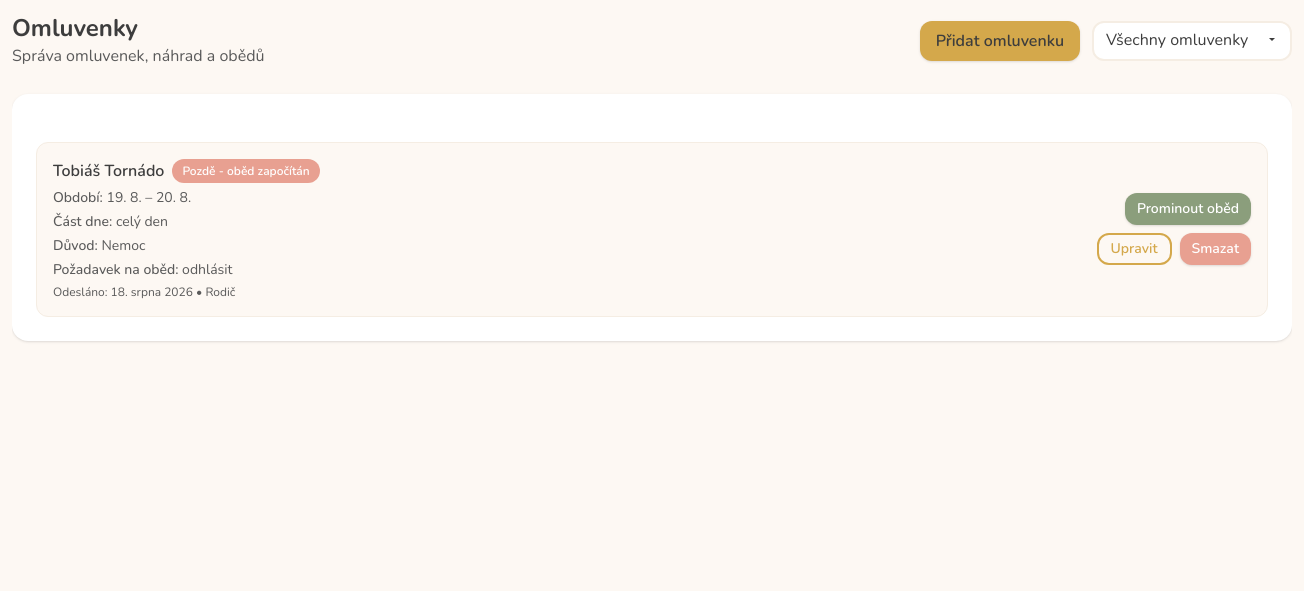
Test: ExcuseManagementPage › shows an edit validation error without discarding the form or reloading
Click the button "Upravit": x=1134, y=249 [1097,233,1172,265]
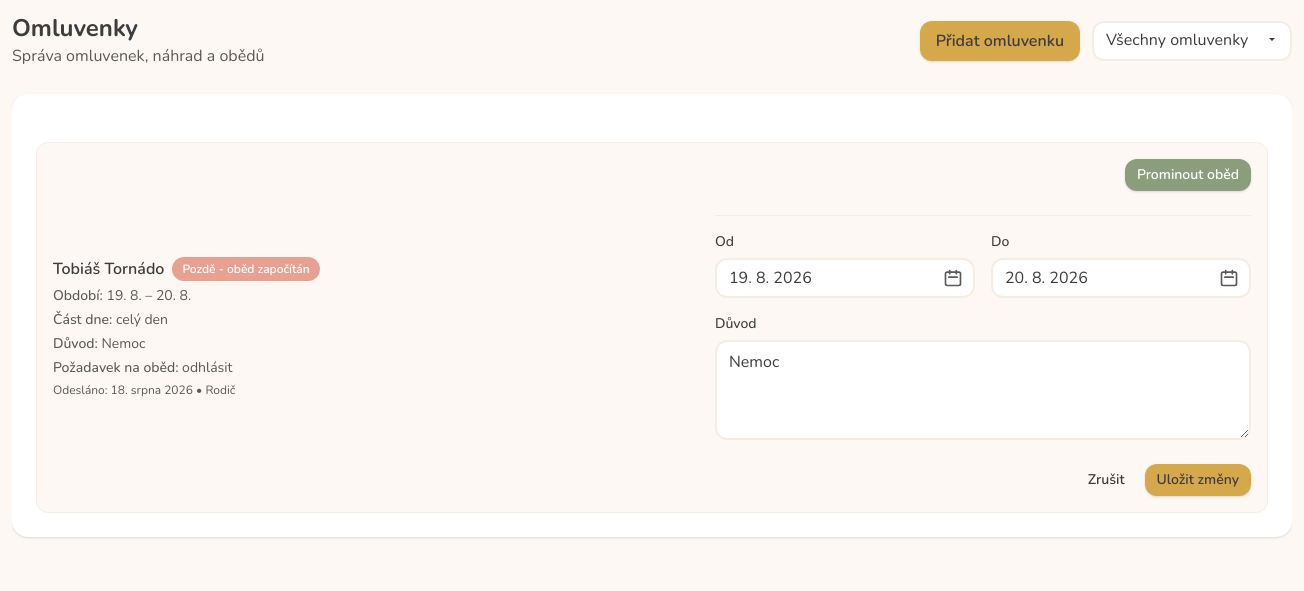
Replace the text in the dropdown labelled "Do" with "2026-08-21": x=1121, y=278 [991,258,1251,298]
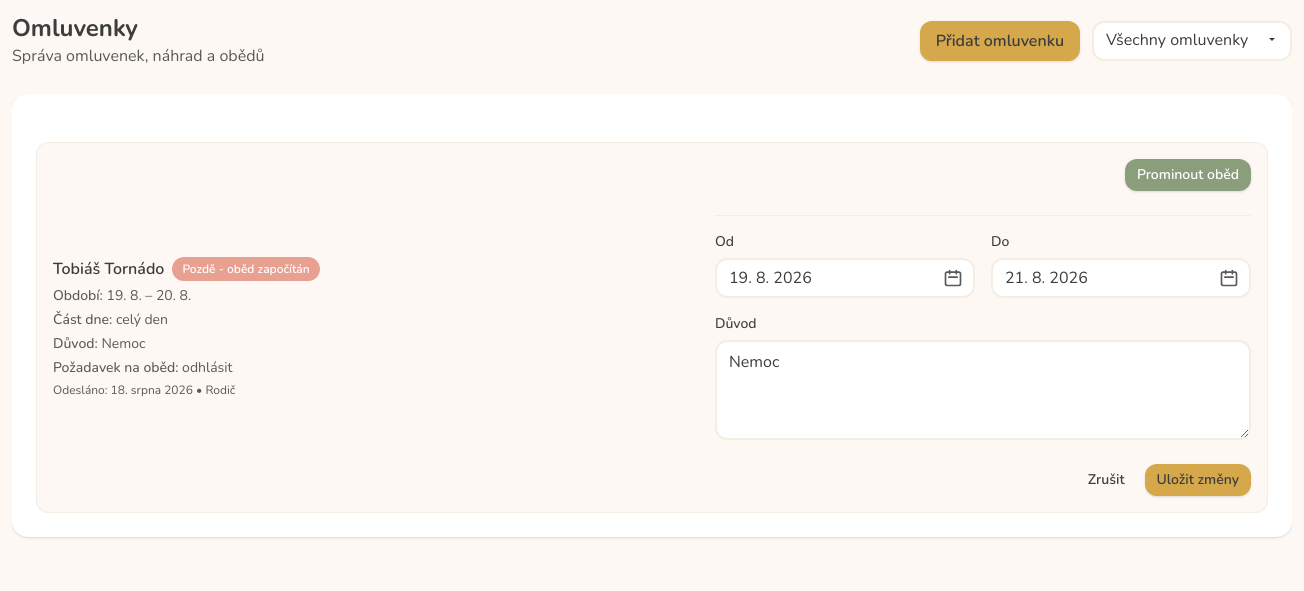
Click the button "Uložit změny": x=1198, y=480 [1144,464,1251,496]
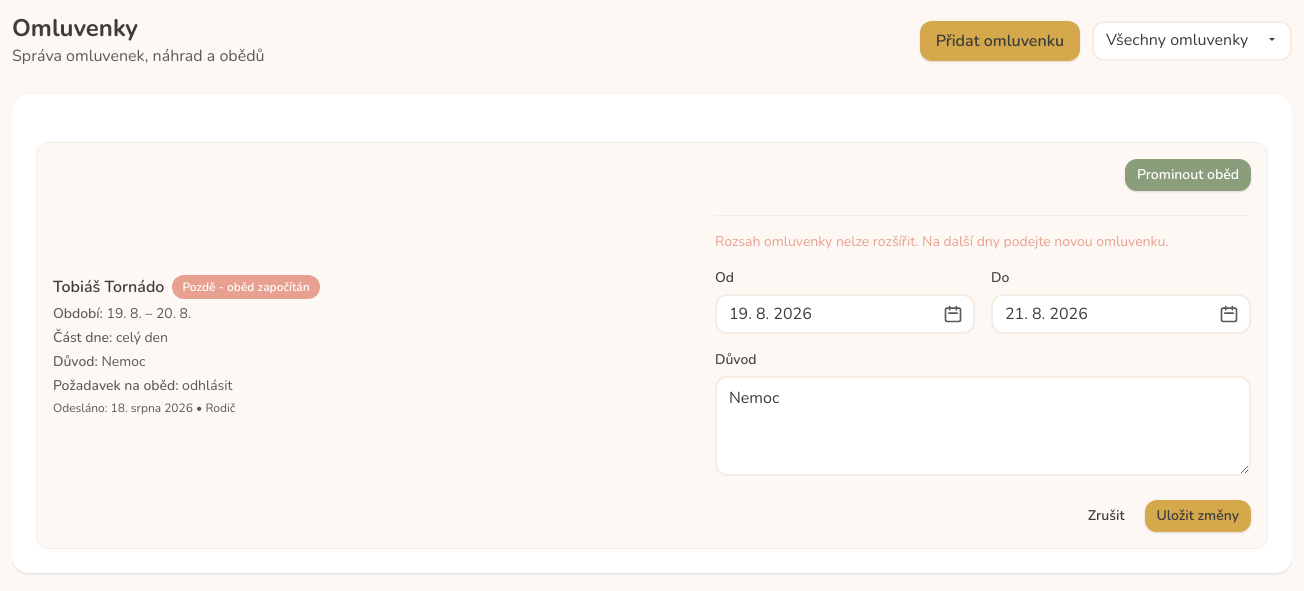
Now the dropdown labelled "Do" holds "21. 8. 2026", box [991,294,1251,334]
Now the message reads "Rozsah omluvenky nelze rozšířit. Na další dny podejte novou omluvenku.", box [715,232,1169,251]
